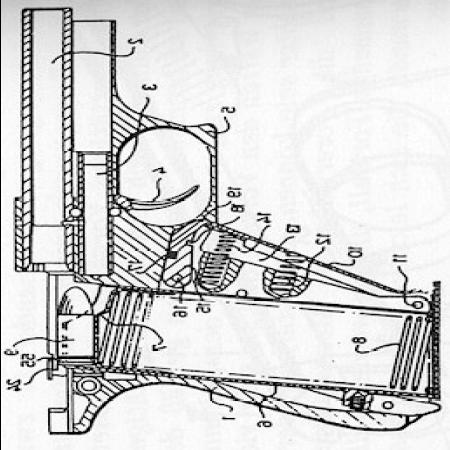Pistol: (11, 3, 434, 434)
